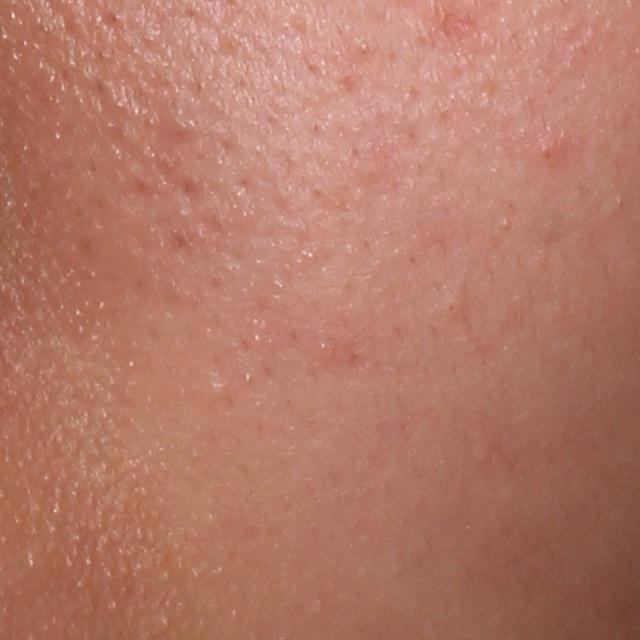comedo: (535, 139, 564, 165), (437, 294, 463, 320), (207, 377, 232, 401)
